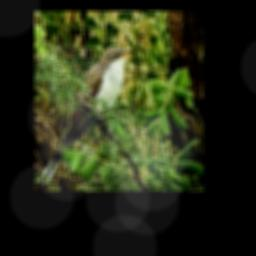Cuckoo: (41, 46, 136, 178)
